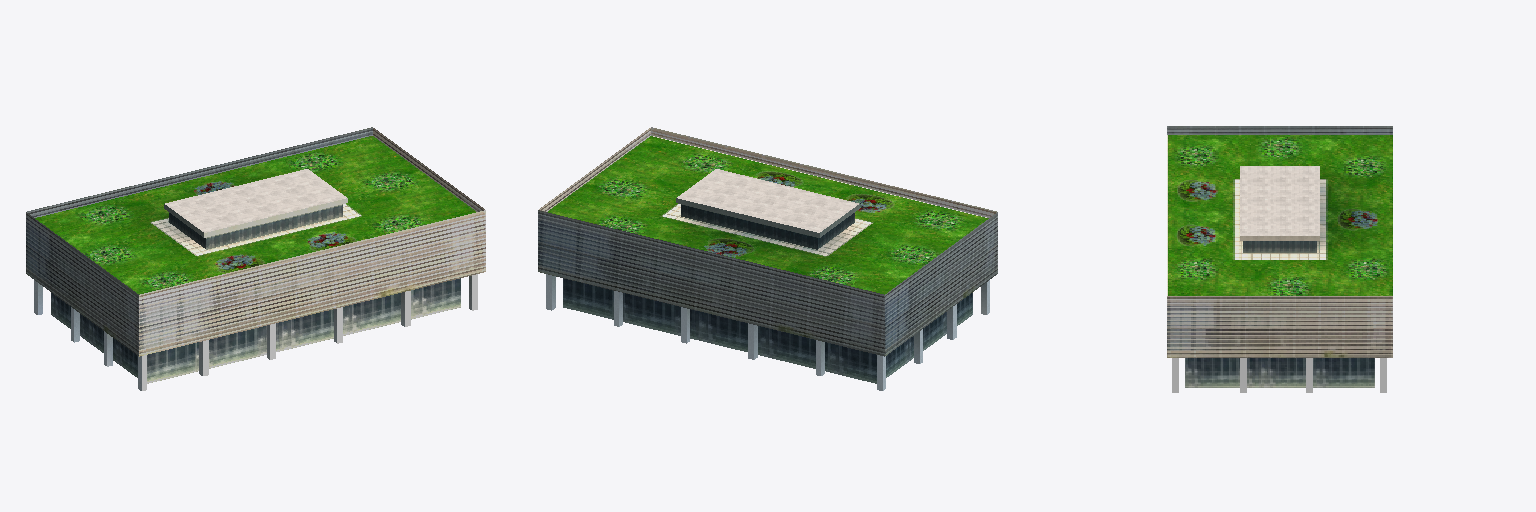
The picture shows the model from 3 angles: view 1: azimuth 30°, elevation 25°; view 2: azimuth 150°, elevation 25°; view 3: azimuth 270°, elevation 25°; orthographic projection.
Visible parts, largest first — view 1: 4D1; view 2: 4D1; view 3: 4D1.
Part boxes in pixels (x1,y1,x2,y2): 4D1: (26, 127, 485, 390); 4D1: (538, 127, 997, 390); 4D1: (1167, 126, 1392, 392).
Size of the model in its own units: 43.49 by 13.2 by 24.59.
1 materials, 1 textured.